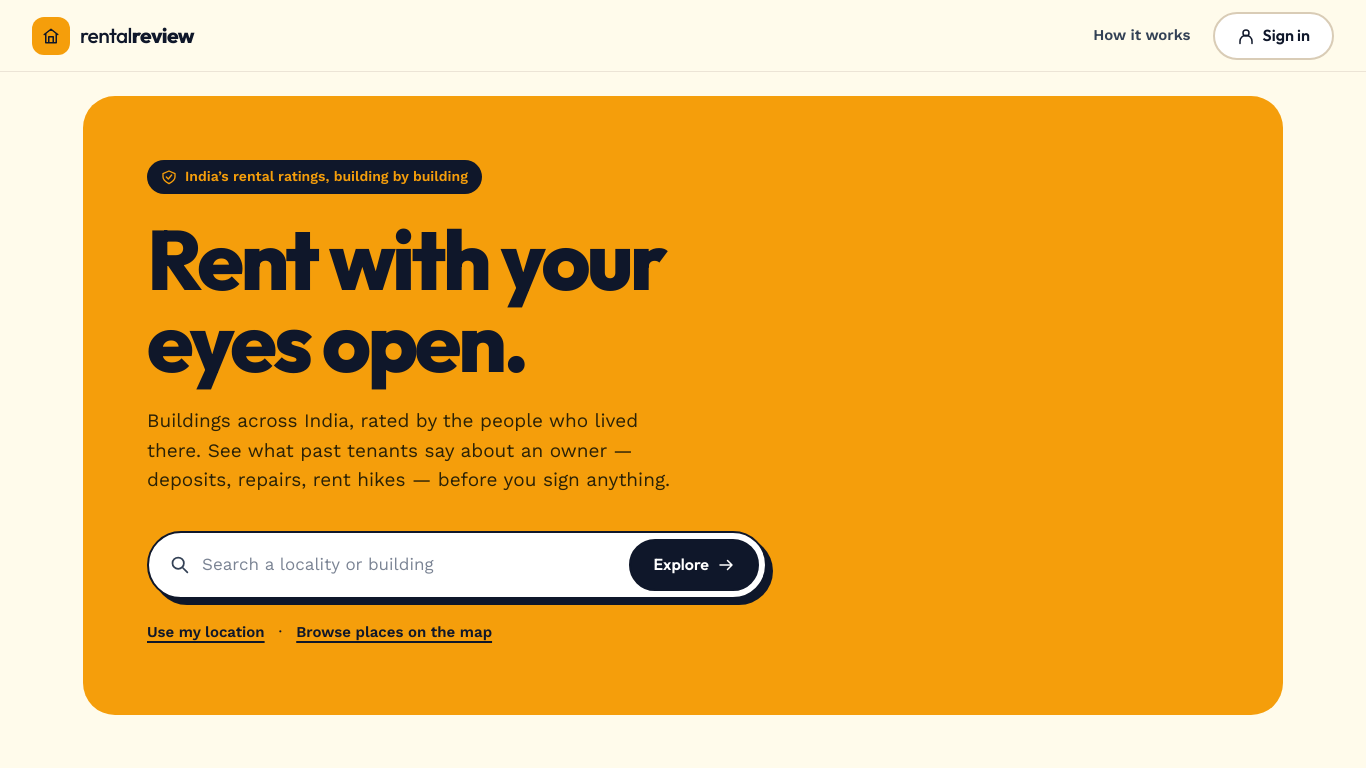
Test case: Rental Review › signs in with Google when the server has a client id
The width and height of the screenshot is (1366, 768).
Click the button "Sign in" at (1273, 36), box [1213,12,1334,60]
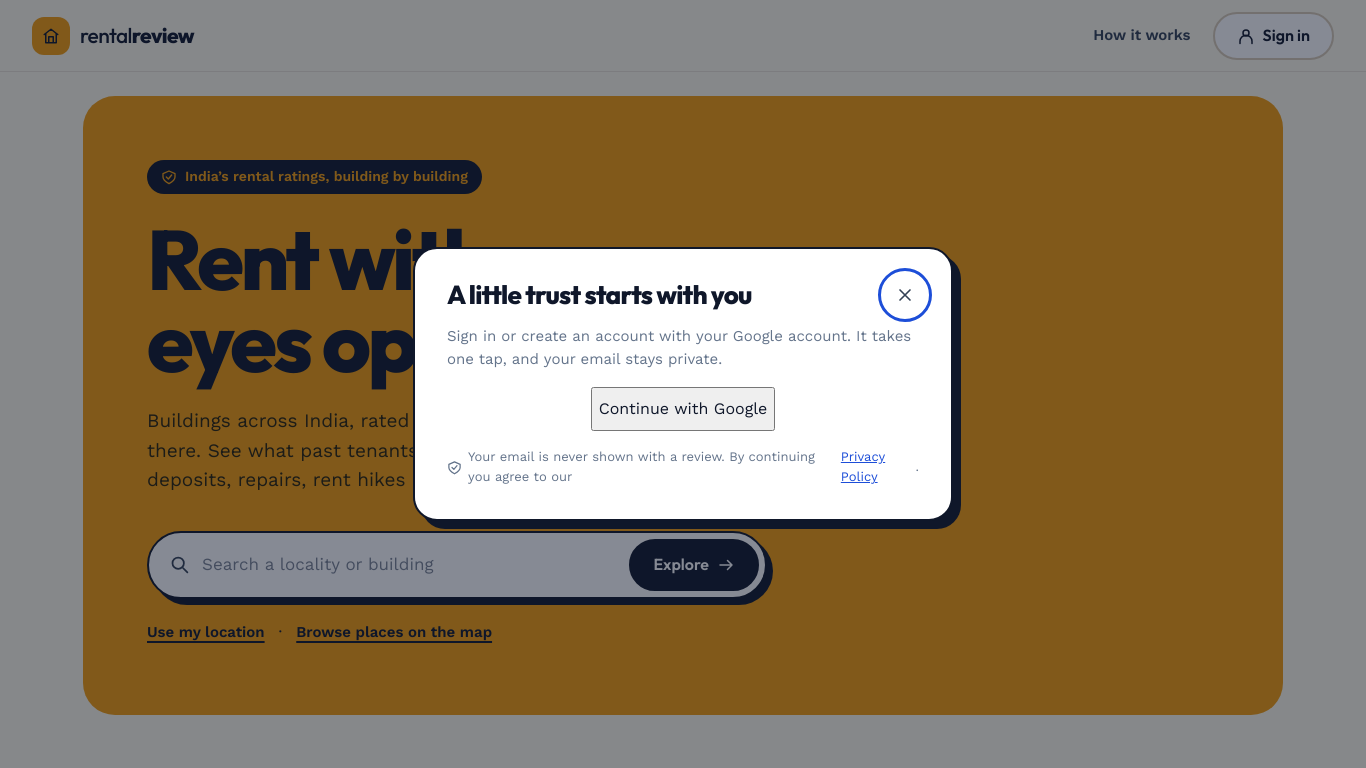
Click the button "Continue with Google" at (683, 409), box [591,387,775,431]
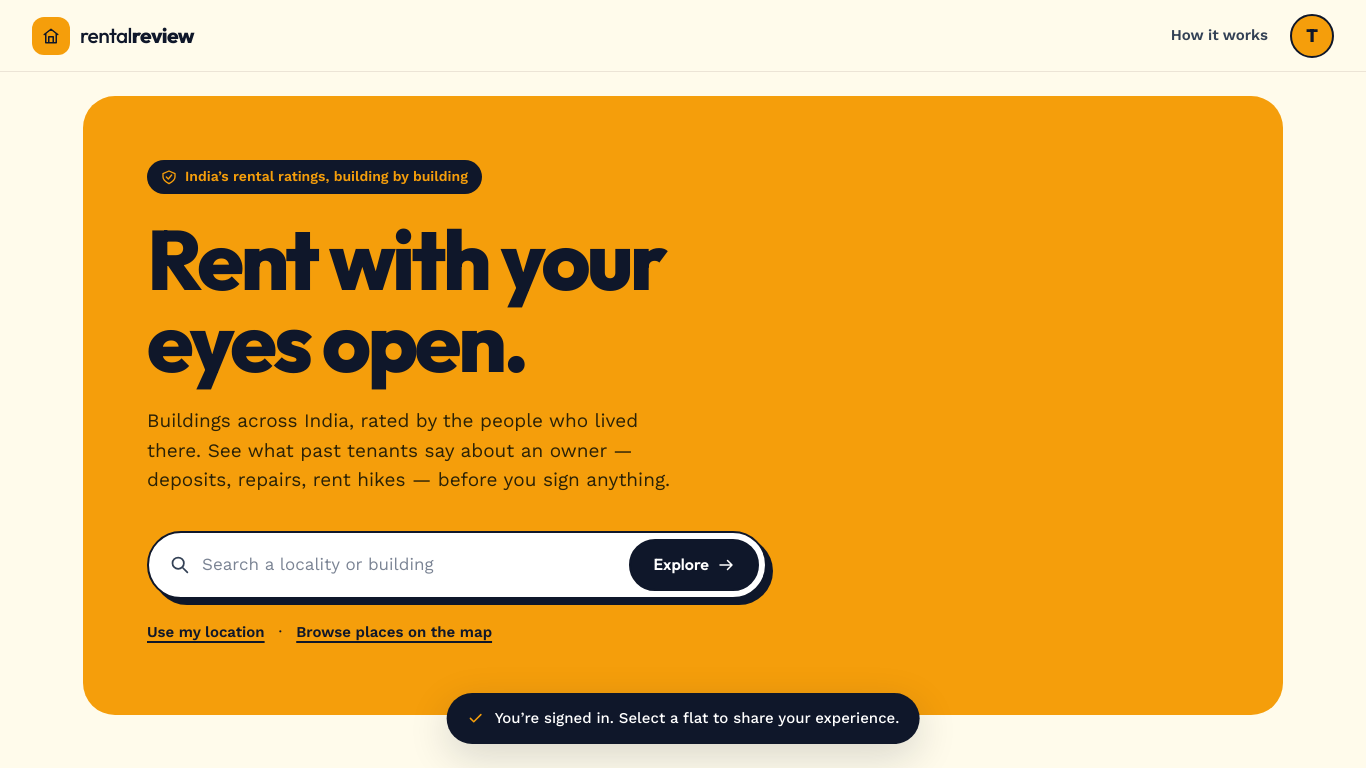
Check: the button named "Your account" is shown, box [1290,14,1334,58]
